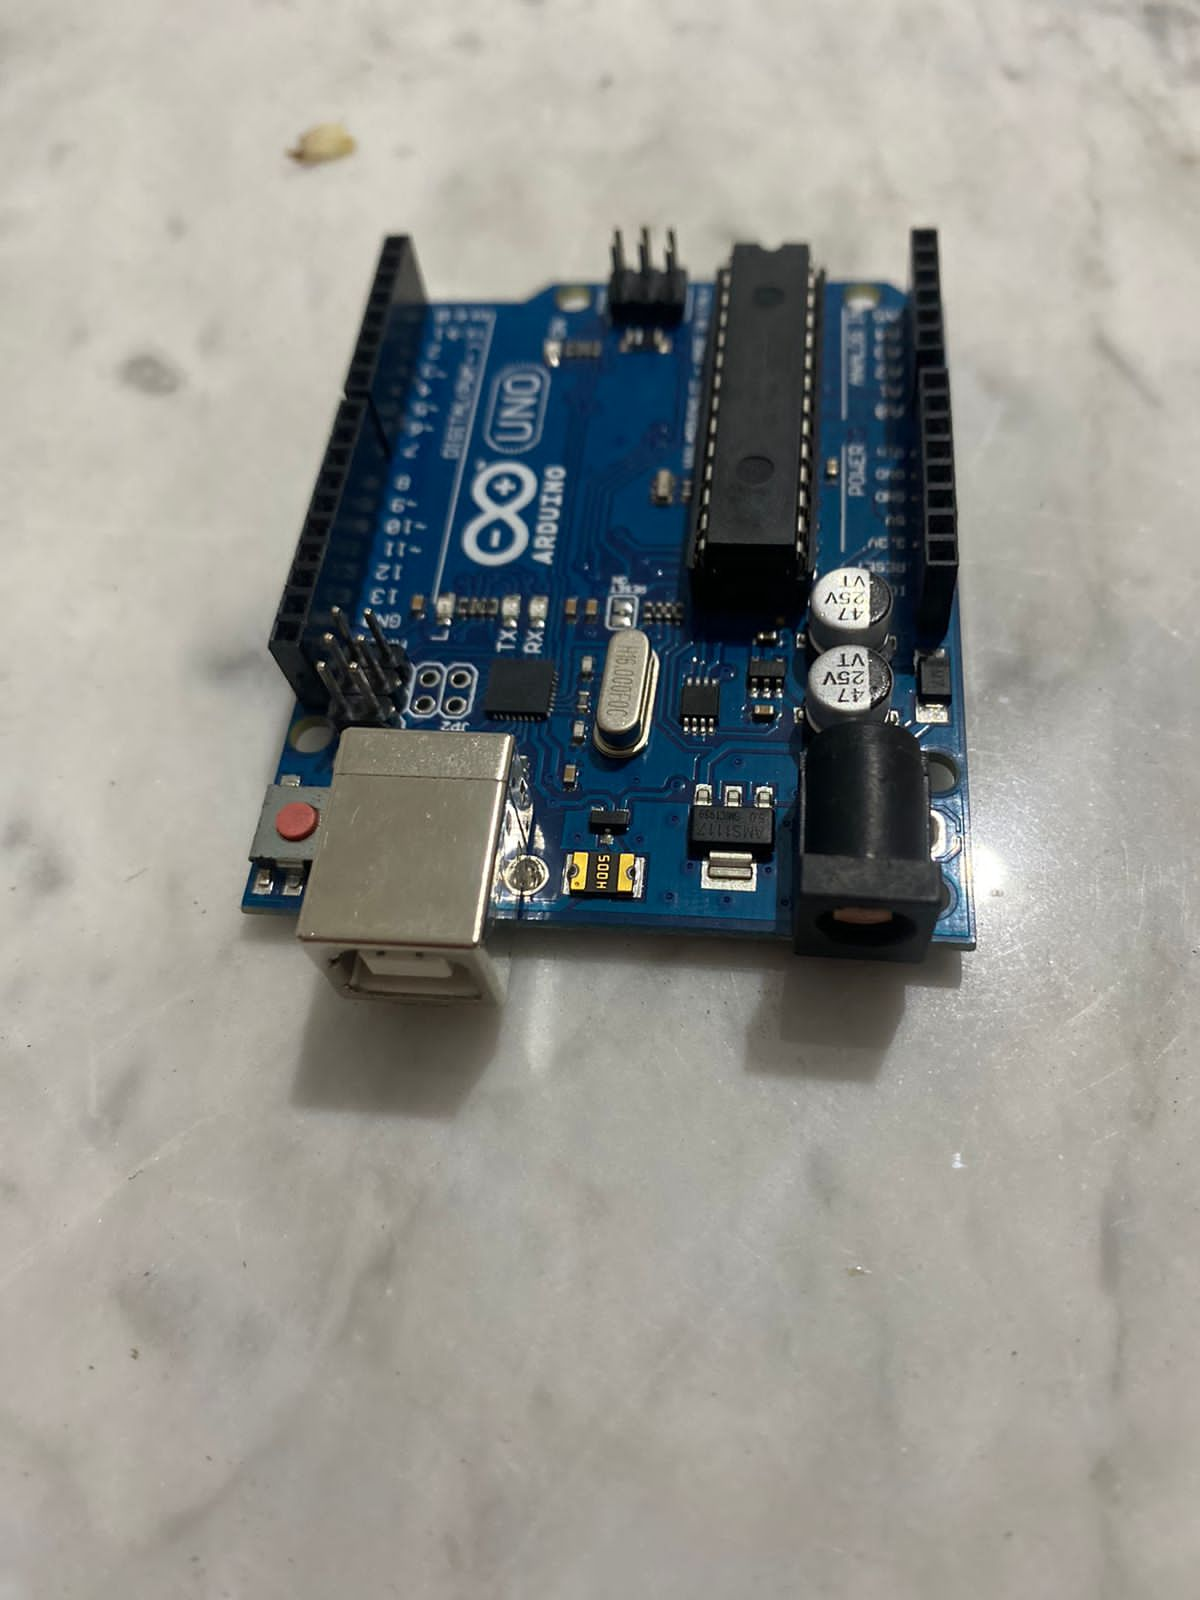arduino-uno: (234, 229, 989, 1010)
